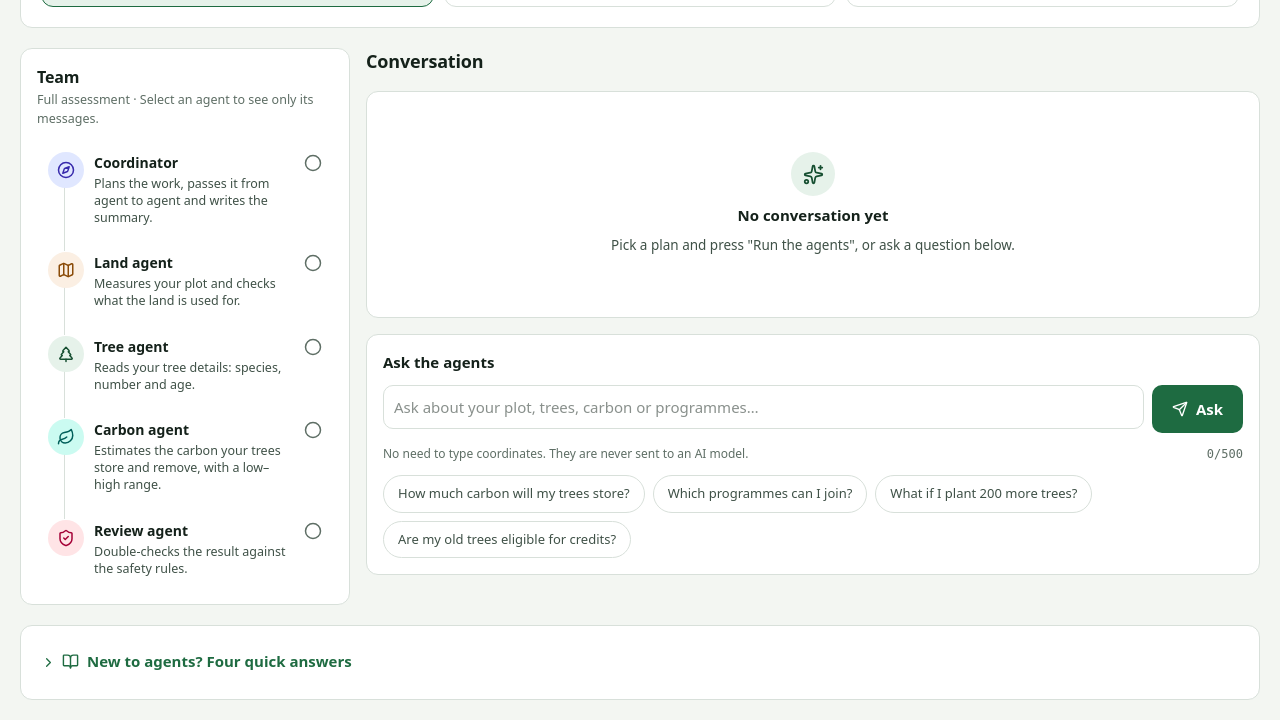
AgentsPage › sends a typed question
(page scrolled)
Type "How old are my trees?" into the field labelled "Ask the agents" at (763, 407), box [383, 385, 1144, 429]
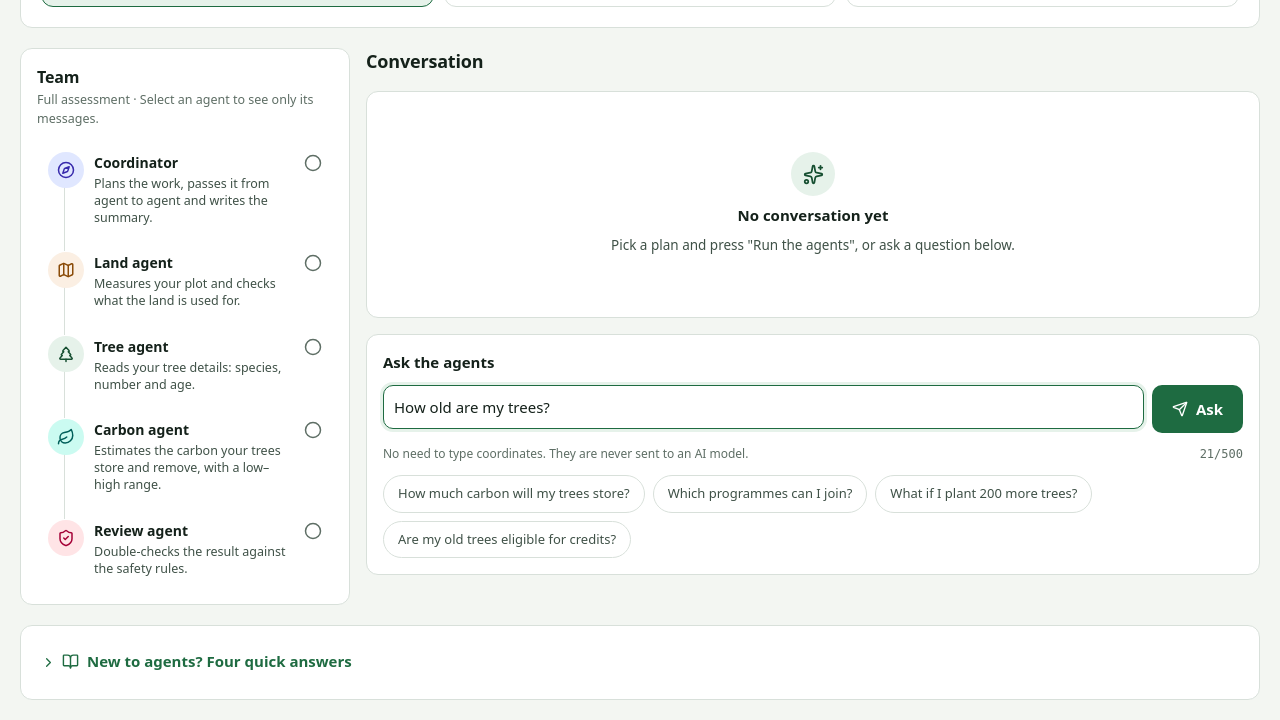
Click the button "Ask" at (1197, 409), box [1152, 385, 1243, 433]
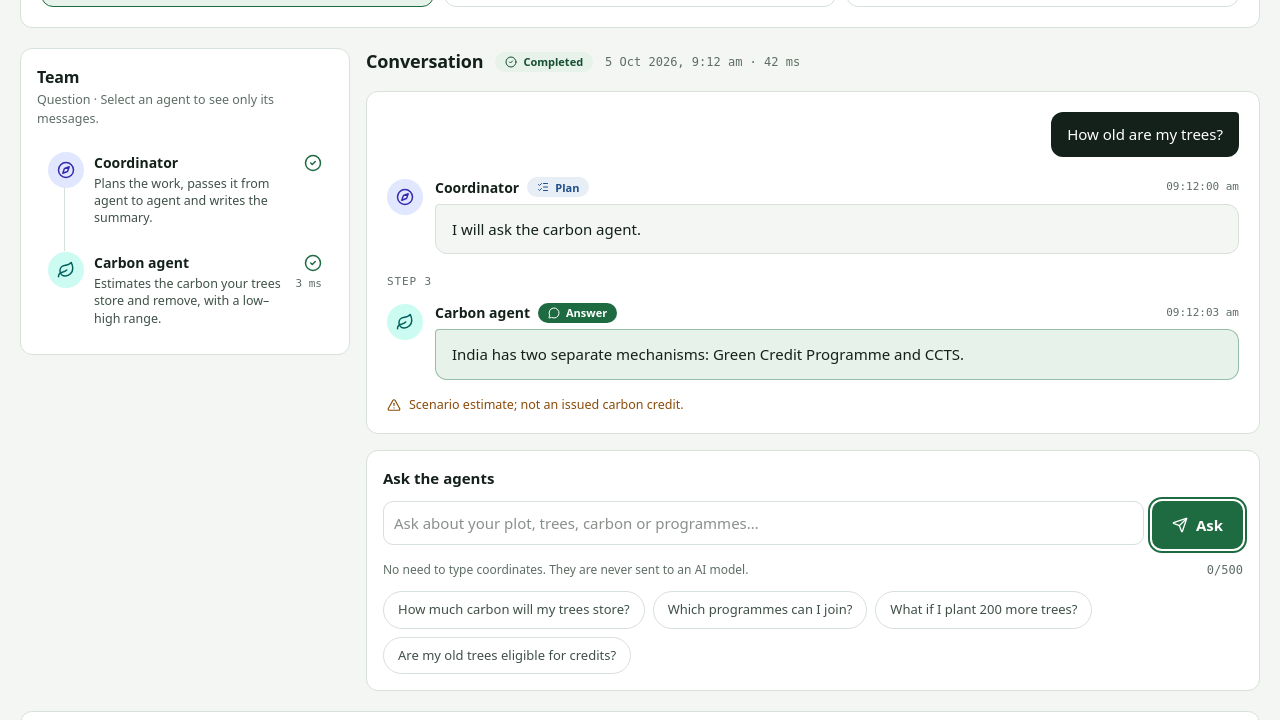
Expected: the text "India has two separate mechanisms" is shown, [452, 344, 964, 364]
